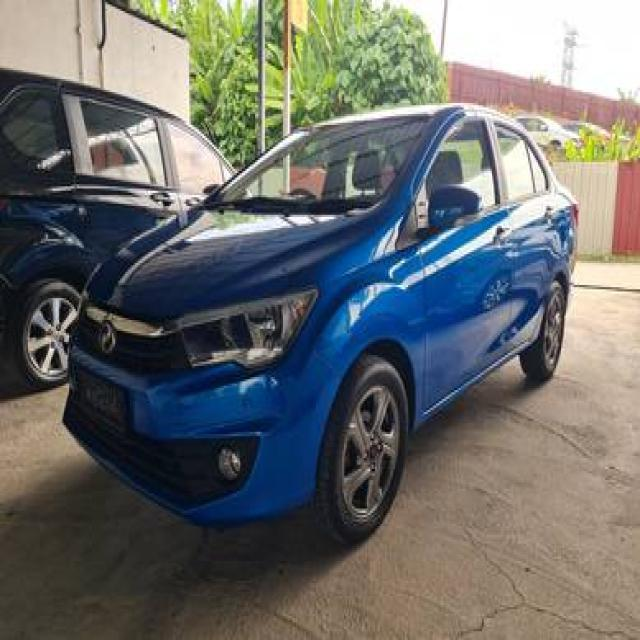PeroduaBezza: (60, 100, 580, 545)
